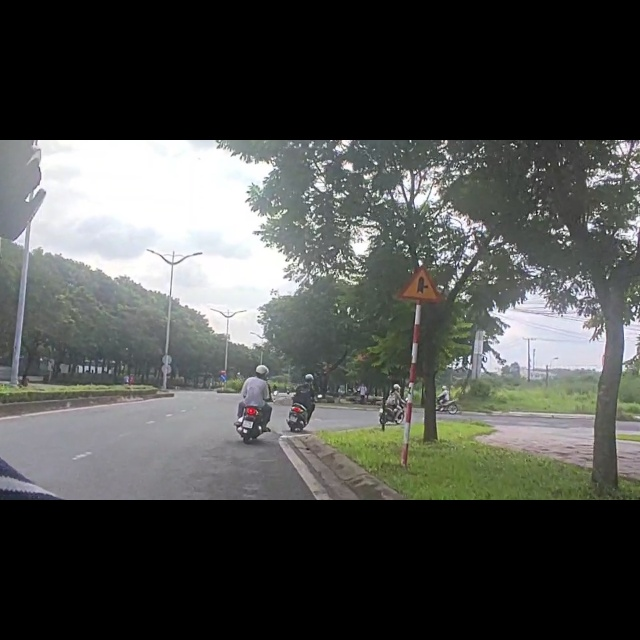Giao nhau với đường không ưu tiên: (396, 264, 443, 305)
